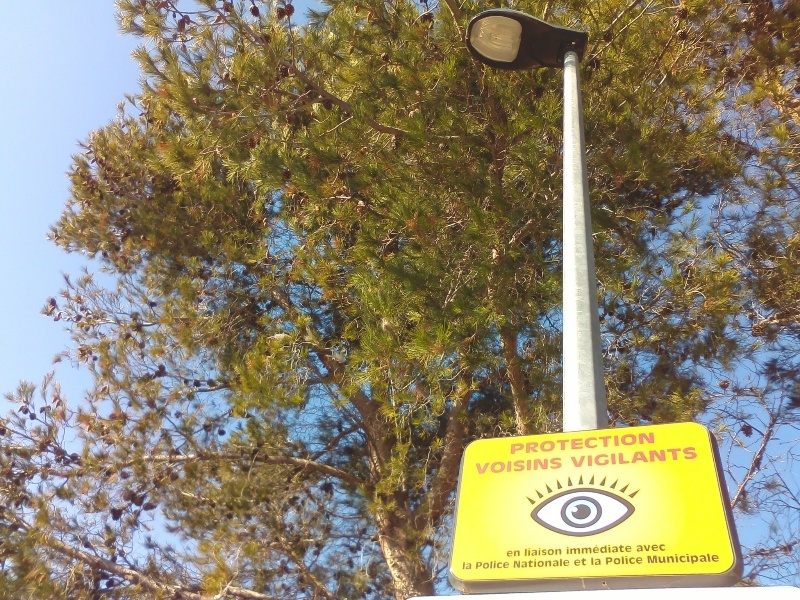text: (513, 433, 528, 456), (529, 433, 544, 456), (545, 433, 560, 456), (561, 433, 576, 456), (577, 433, 592, 456), (593, 433, 608, 456), (609, 433, 624, 456), (625, 433, 640, 456), (641, 433, 656, 456), (577, 447, 592, 468), (593, 447, 608, 468), (609, 447, 624, 468), (625, 447, 640, 468), (641, 447, 656, 468), (657, 447, 672, 468), (673, 447, 688, 468), (481, 457, 496, 474), (497, 457, 512, 474), (513, 457, 528, 474), (529, 457, 544, 474), (545, 457, 560, 474), (689, 447, 699, 468), (577, 543, 592, 556), (593, 543, 608, 556), (609, 543, 624, 556), (657, 553, 672, 566), (673, 553, 688, 566), (689, 553, 704, 566), (705, 553, 720, 566), (513, 557, 528, 569), (529, 557, 544, 569), (545, 557, 560, 569), (609, 555, 624, 566), (625, 555, 640, 566), (529, 547, 544, 557), (545, 547, 560, 557), (641, 543, 656, 553), (481, 560, 496, 570), (566, 543, 576, 556), (497, 560, 509, 570), (561, 557, 571, 569), (625, 543, 634, 556), (647, 553, 656, 566), (657, 543, 668, 553), (577, 557, 588, 567), (571, 447, 576, 468), (593, 556, 602, 567), (465, 561, 473, 570), (476, 457, 480, 474), (513, 549, 520, 558), (507, 549, 512, 558), (524, 547, 528, 557), (636, 543, 640, 553), (476, 560, 480, 570), (561, 457, 563, 474), (605, 555, 608, 566), (641, 555, 644, 566), (721, 553, 723, 566), (511, 433, 512, 456), (561, 547, 563, 557), (574, 557, 576, 567), (591, 556, 592, 567), (463, 561, 464, 570)
